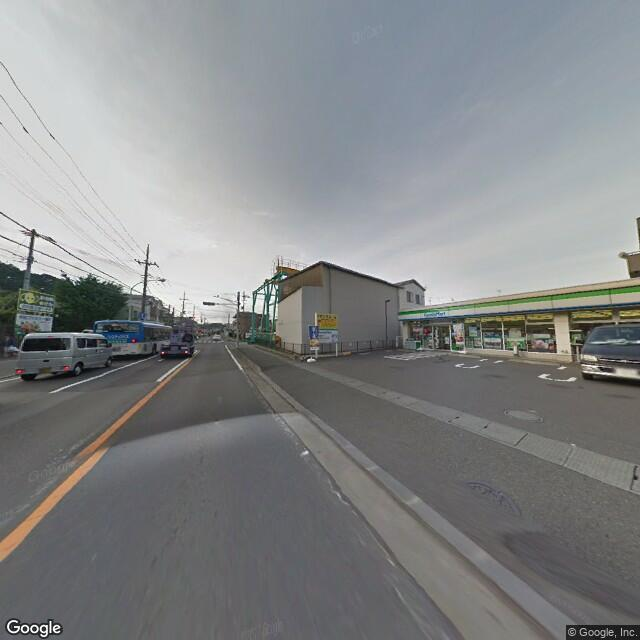family_mart: (396, 282, 639, 323)
